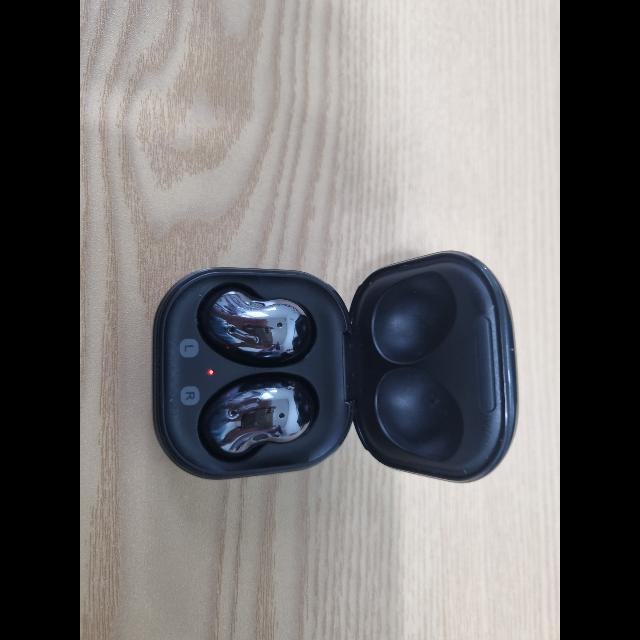buds_live: (152, 248, 520, 486)
